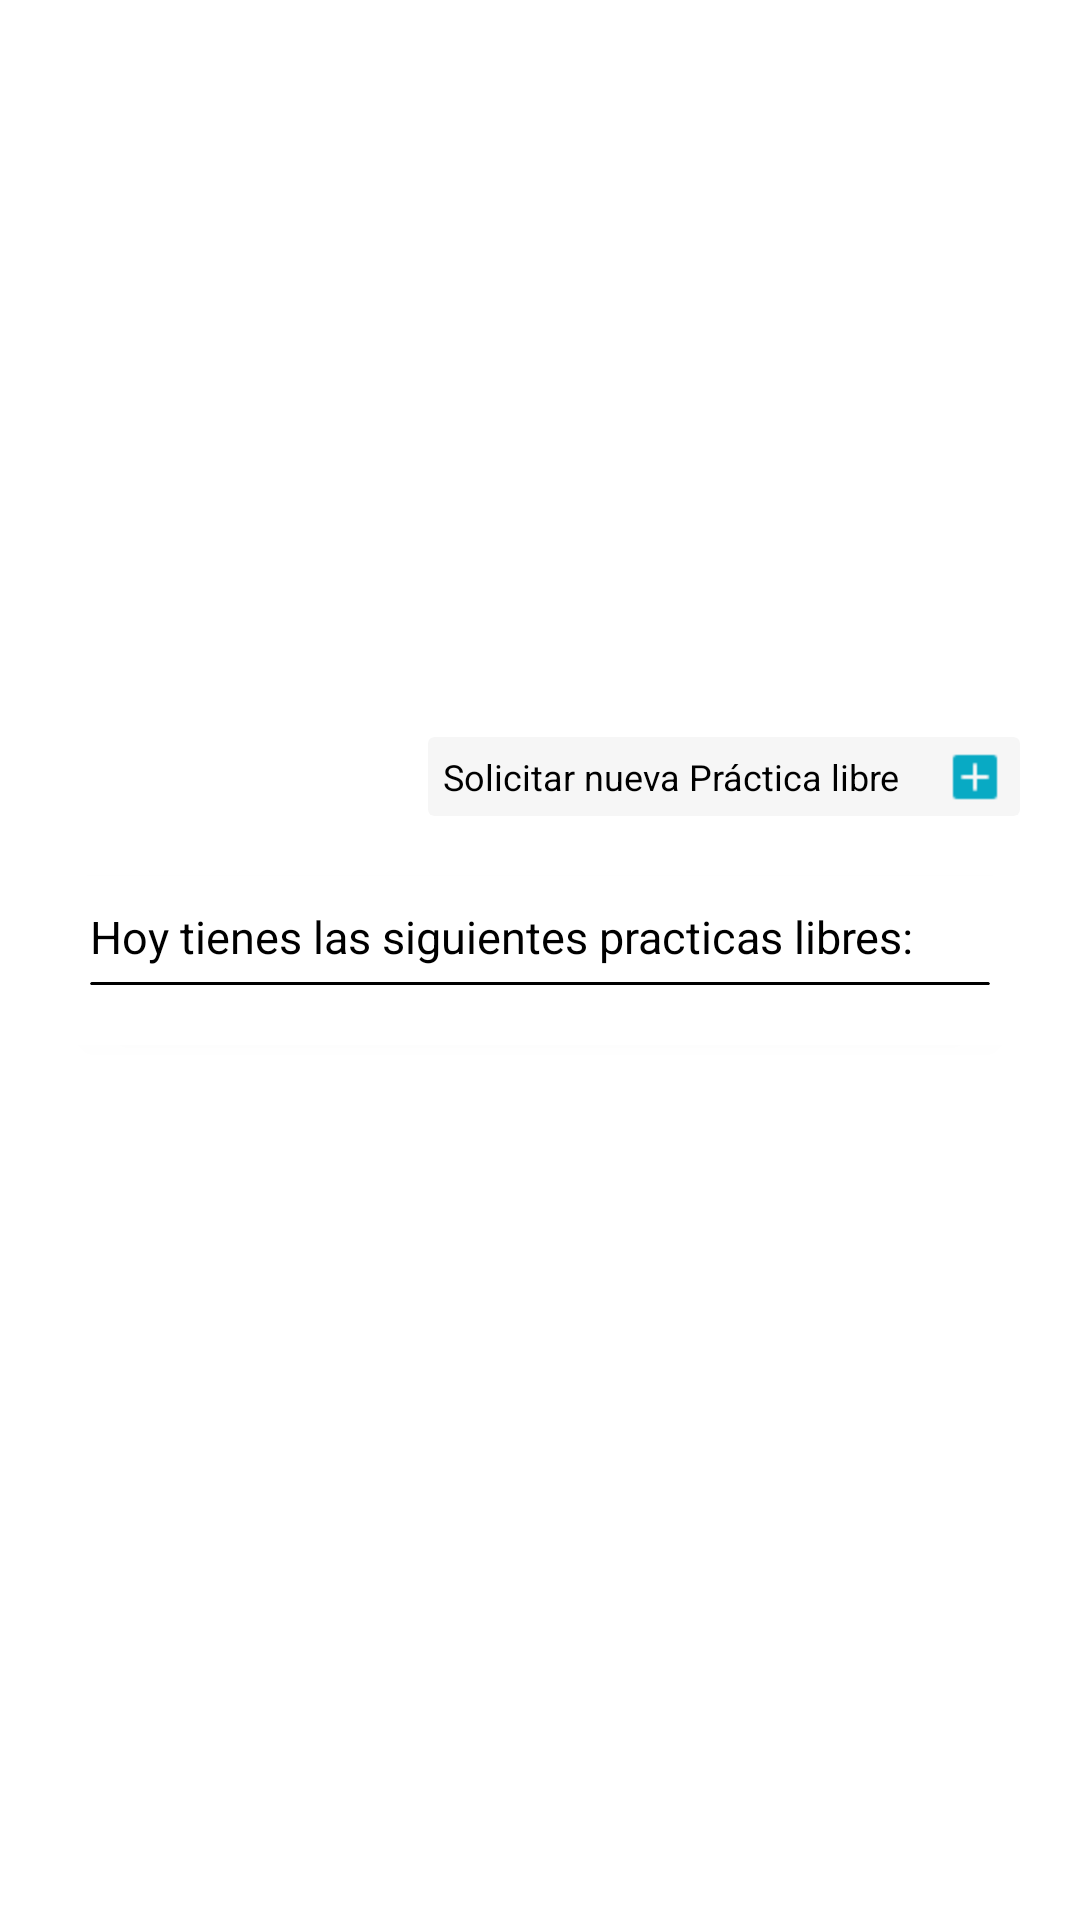

Icons on this 1080*1920 Android screen, each with its box as (x1, y1, x2, y2):
add: (952, 754, 998, 800)
